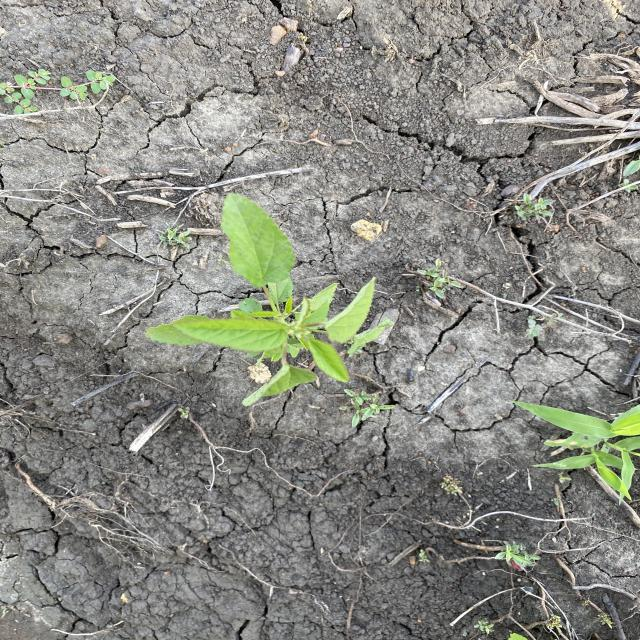PricklySida: (141, 189, 397, 409)
SpottedSpurge: (0, 64, 119, 118)
